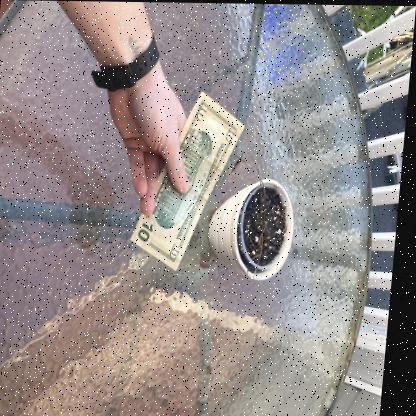ten-back: (127, 89, 243, 271)
